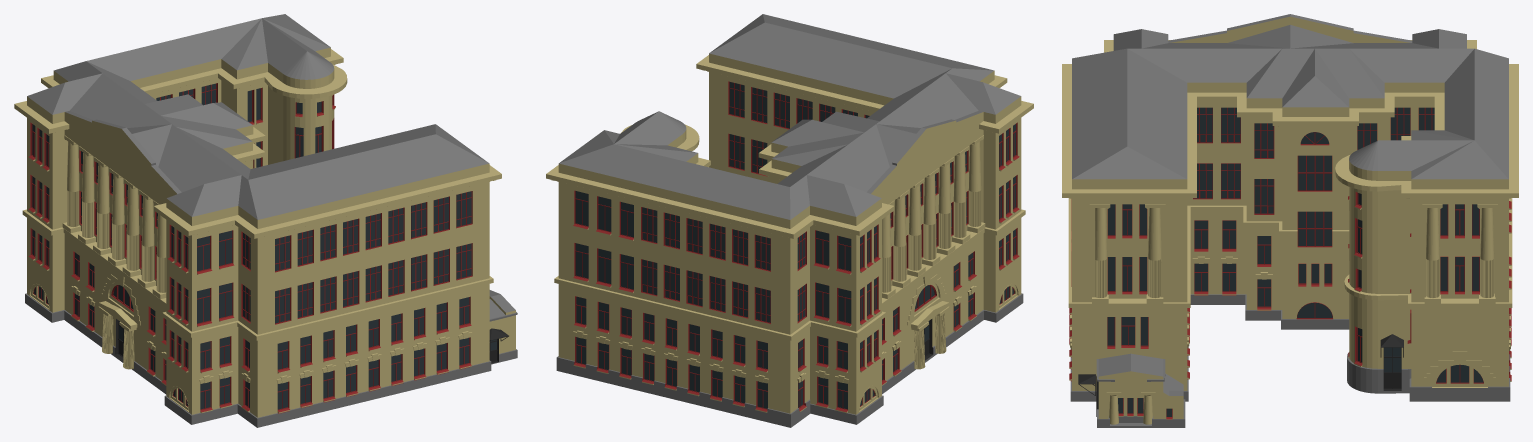
File: Gorniy.glb
The picture shows the model from 3 angles, left to right: view 1: azimuth 30°, elevation 25°; view 2: azimuth 150°, elevation 25°; view 3: azimuth 270°, elevation 25°; orthographic projection. The views are drawn at different scales.
Visible parts, largest first — view 1: ГГ, ГГ_КРОВЛЯ, ГГ_окно.008, Колонна.008, ГГ_Окно_2х2.027, ГГ_Окно_2х2.006, ГГ_Окно_2х2.002, ГГ_Окно_2х2.001, ГГ_пристройка, ГГ_Окно_2х2.007, ГГ_Окно_2х2.005, ГГ_круг окно (+7 smaller); view 2: ГГ, ГГ_КРОВЛЯ, Колонна.008, ГГ_окно.001, ГГ_Окно_2х2.004, ГГ_окно.007, ГГ_Окно_2х2.003, ГГ_Окно_2х2.006, ГГ_Окно_2х2.002, ГГ_Окно_2х2.001, ГГ_Окно_2х2.007, ГГ_окно.002 (+6 smaller); view 3: ГГ, ГГ_КРОВЛЯ, Колонна.010, ГГ_пристройка, ГГ_окно.004, ГГ_Окно_2х2.010, ГГ_окно.006, ГГ_окно.005, ГГ_Окно_2х2.021, ГГ_круг окно.001, ГГ_Окно_2х2.009, ГГ_Окно_2х2.022 (+7 smaller).
Part boxes in pixels (x1=…): ГГ: x1=14, y1=47, x2=501, y2=427; ГГ_КРОВЛЯ: x1=27, y1=14, x2=489, y2=219; ГГ_окно.008: x1=275, y1=191, x2=472, y2=323; Колонна.008: x1=62, y1=135, x2=166, y2=299; ГГ_Окно_2х2.027: x1=277, y1=296, x2=471, y2=413; ГГ_Окно_2х2.006: x1=28, y1=122, x2=188, y2=325; ГГ_Окно_2х2.002: x1=197, y1=230, x2=234, y2=327; ГГ_Окно_2х2.001: x1=200, y1=336, x2=232, y2=413; ГГ_пристройка: x1=489, y1=290, x2=517, y2=364; ГГ_Окно_2х2.007: x1=71, y1=251, x2=166, y2=385; ГГ_Окно_2х2.005: x1=28, y1=229, x2=188, y2=372; ГГ_круг окно: x1=101, y1=272, x2=140, y2=325; ГГ: x1=546, y1=53, x2=1033, y2=427; ГГ_КРОВЛЯ: x1=559, y1=14, x2=1020, y2=219; Колонна.008: x1=882, y1=135, x2=985, y2=298; ГГ_окно.001: x1=641, y1=207, x2=770, y2=323; ГГ_Окно_2х2.004: x1=573, y1=296, x2=767, y2=412; ГГ_окно.007: x1=728, y1=81, x2=869, y2=173; ГГ_Окно_2х2.003: x1=573, y1=190, x2=633, y2=293; ГГ_Окно_2х2.006: x1=860, y1=122, x2=1019, y2=325; ГГ_Окно_2х2.002: x1=813, y1=230, x2=851, y2=327; ГГ_Окно_2х2.001: x1=815, y1=336, x2=847, y2=413; ГГ_Окно_2х2.007: x1=882, y1=251, x2=976, y2=385; ГГ_окно.002: x1=890, y1=150, x2=968, y2=280; ГГ: x1=1062, y1=40, x2=1518, y2=401; ГГ_КРОВЛЯ: x1=1072, y1=14, x2=1508, y2=179; Колонна.010: x1=1089, y1=204, x2=1497, y2=303; ГГ_пристройка: x1=1096, y1=353, x2=1185, y2=427; ГГ_окно.004: x1=1193, y1=107, x2=1434, y2=198; ГГ_Окно_2х2.010: x1=1107, y1=204, x2=1479, y2=295; ГГ_окно.006: x1=1297, y1=155, x2=1332, y2=246; ГГ_окно.005: x1=1254, y1=123, x2=1377, y2=214; ГГ_Окно_2х2.021: x1=1194, y1=220, x2=1236, y2=295; ГГ_круг окно.001: x1=1421, y1=351, x2=1498, y2=387; ГГ_Окно_2х2.009: x1=1122, y1=204, x2=1464, y2=295; ГГ_Окно_2х2.022: x1=1257, y1=236, x2=1271, y2=310.
Size of the model in its own units: 7.2 by 5.01 by 8.15.
